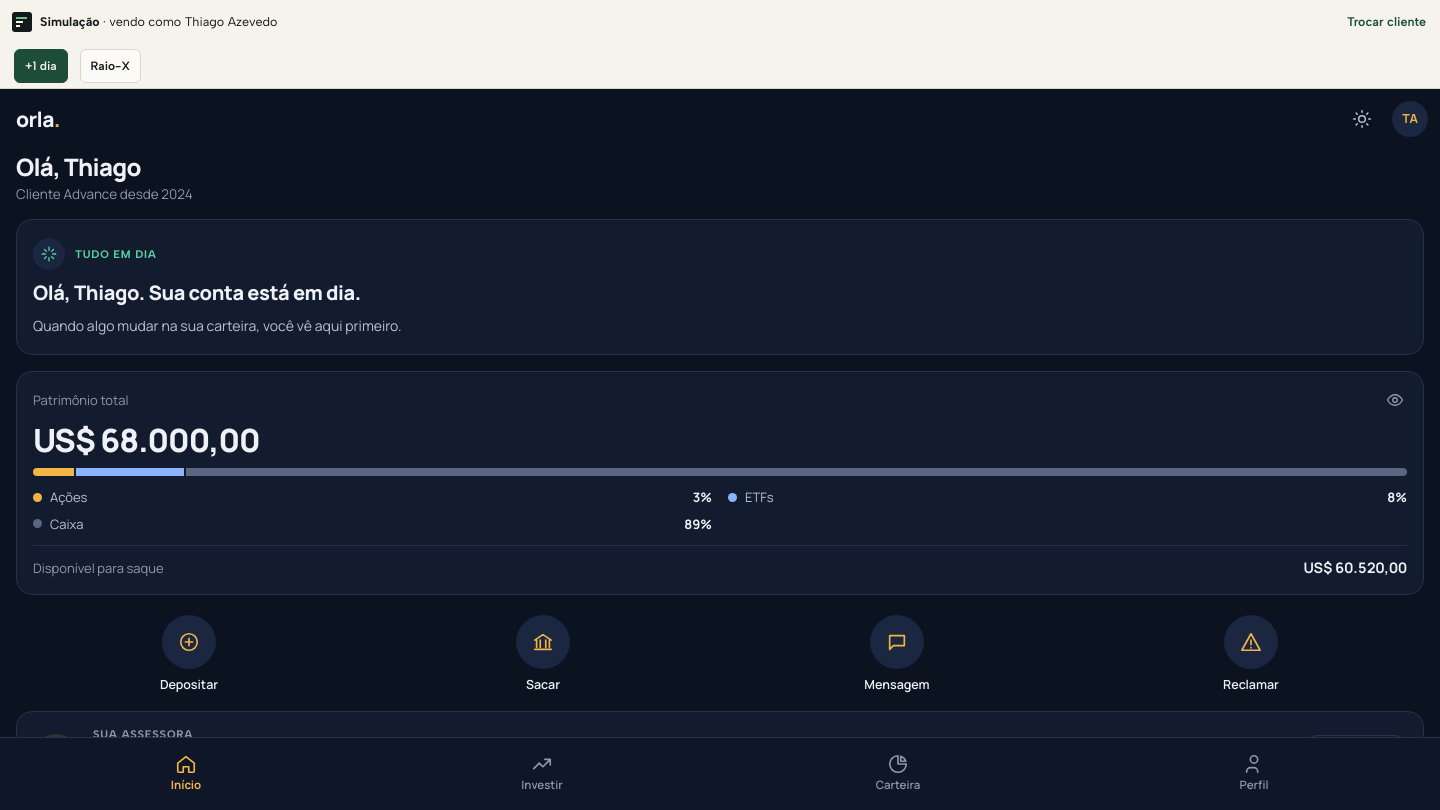
Test case: Raio-X SDUI toggle in the simulation strip › outlines and labels Thiago’s sections, shows the banner, and turns off again
Click the button "Raio-X" at (110, 66), box [78,44,143,88]
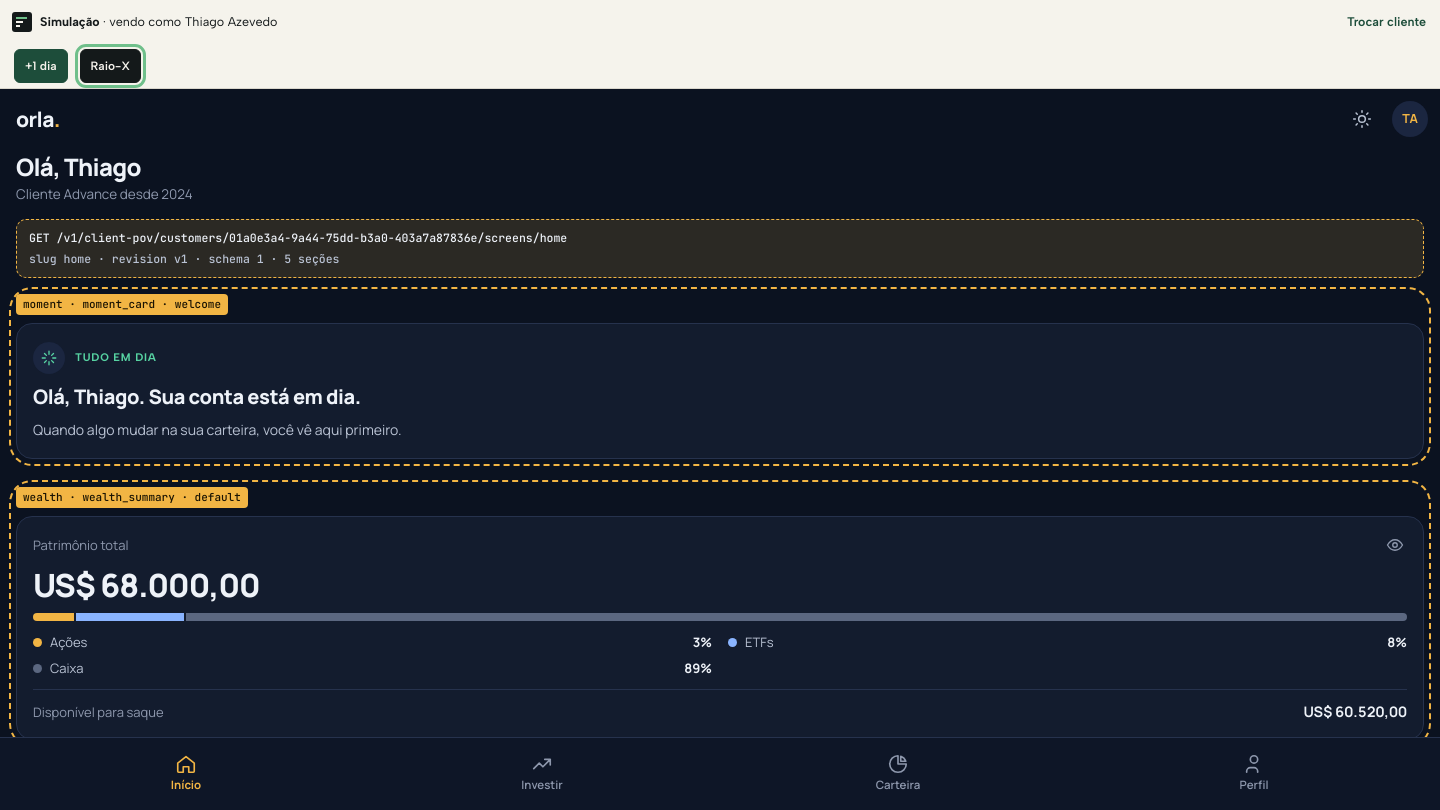
Now the element named "Raio-X SDUI" shows "slug home · revision v1 · schema 1 · 5 seções", box [29,251,340,266]
Click the button "Raio-X" at (110, 66), box [78,44,143,88]
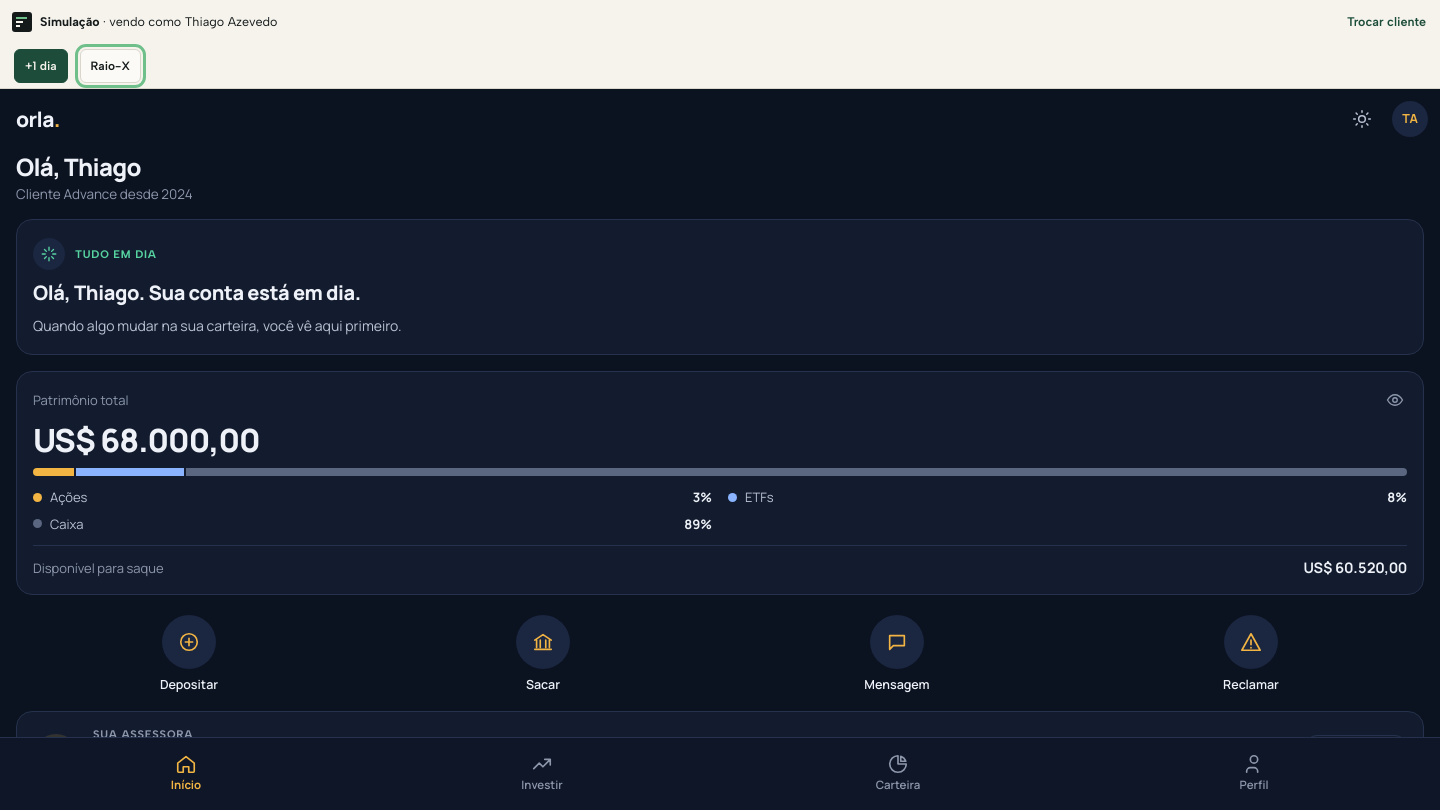
Now the text with class "sdui-xray-label" is gone
